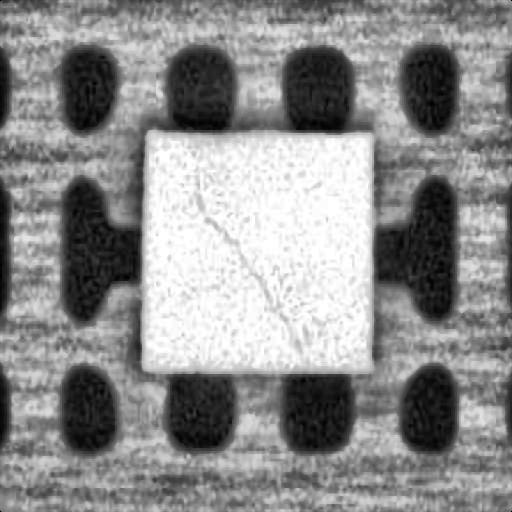DIE_CRACK: (193, 188, 300, 348)
